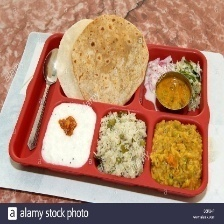rice: (98, 115, 150, 181)
